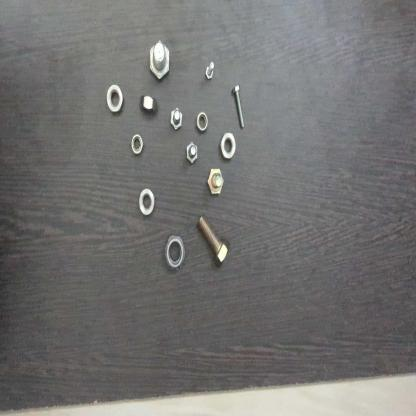Bolts: (197, 212, 233, 272), (146, 38, 175, 85), (227, 81, 250, 133), (205, 164, 225, 200), (167, 106, 183, 134), (184, 138, 198, 167), (204, 60, 219, 84)
NUTS: (164, 231, 185, 272), (105, 81, 128, 115), (138, 186, 157, 218), (219, 131, 238, 162), (139, 92, 160, 120), (129, 130, 144, 157), (195, 109, 210, 134)
